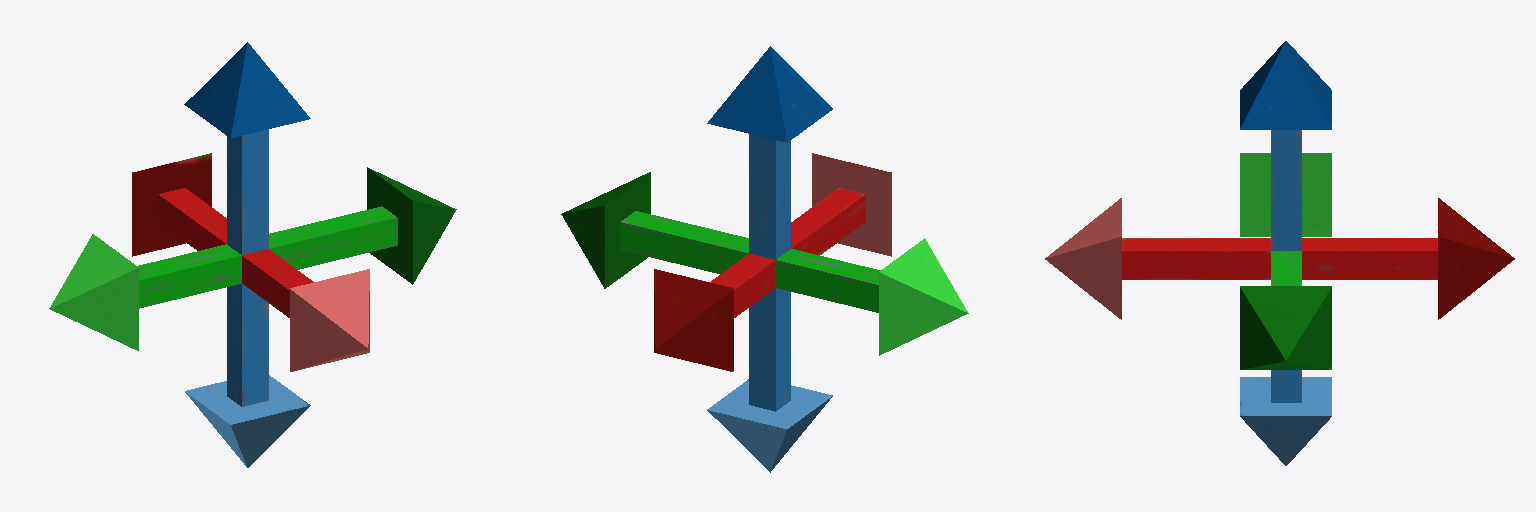
3 views of the same model, side by side, from view 1: azimuth 30°, elevation 25°; view 2: azimuth 150°, elevation 25°; view 3: azimuth 270°, elevation 25° (orthographic).
Visible parts, largest first — view 1: Default object_1; view 2: Default object_1; view 3: Default object_1.
Boxes of the visible parts, x1=… form: Default object_1: x1=49, y1=42, x2=456, y2=467; Default object_1: x1=561, y1=46, x2=968, y2=472; Default object_1: x1=1045, y1=41, x2=1514, y2=465.
Size of the model in its own units: 30.44 by 30.44 by 30.44.
1 materials, 1 textured.